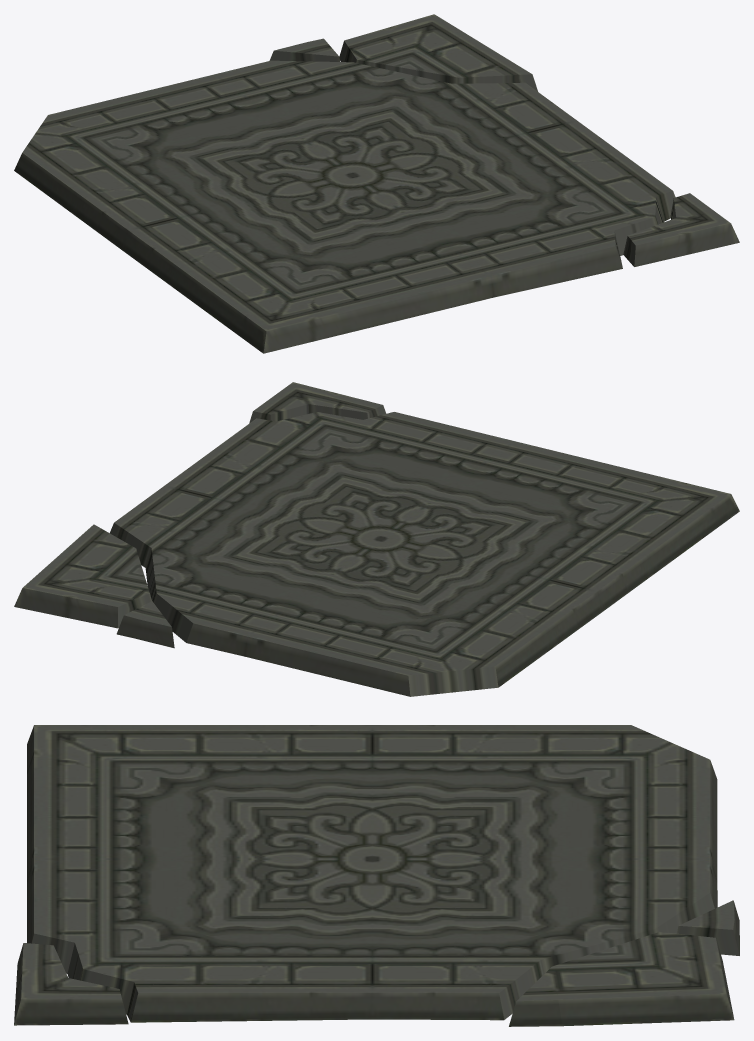
The model's file is ZZL_Item_08.FBX.
3 renders of one model, top to bottom at view 1: azimuth 30°, elevation 25°; view 2: azimuth 150°, elevation 25°; view 3: azimuth 270°, elevation 25°, orthographic. The views are drawn at different scales.
Visible parts, largest first — view 1: ZZL_Item_08; view 2: ZZL_Item_08; view 3: ZZL_Item_08.
Boxes of the visible parts, <box> form: ZZL_Item_08: <box>14,14,739,353</box>; ZZL_Item_08: <box>14,382,739,696</box>; ZZL_Item_08: <box>14,725,739,1026</box>.
Size of the model in its own units: 445 by 21.77 by 484.
Materials: 1 (1 with a texture image).
